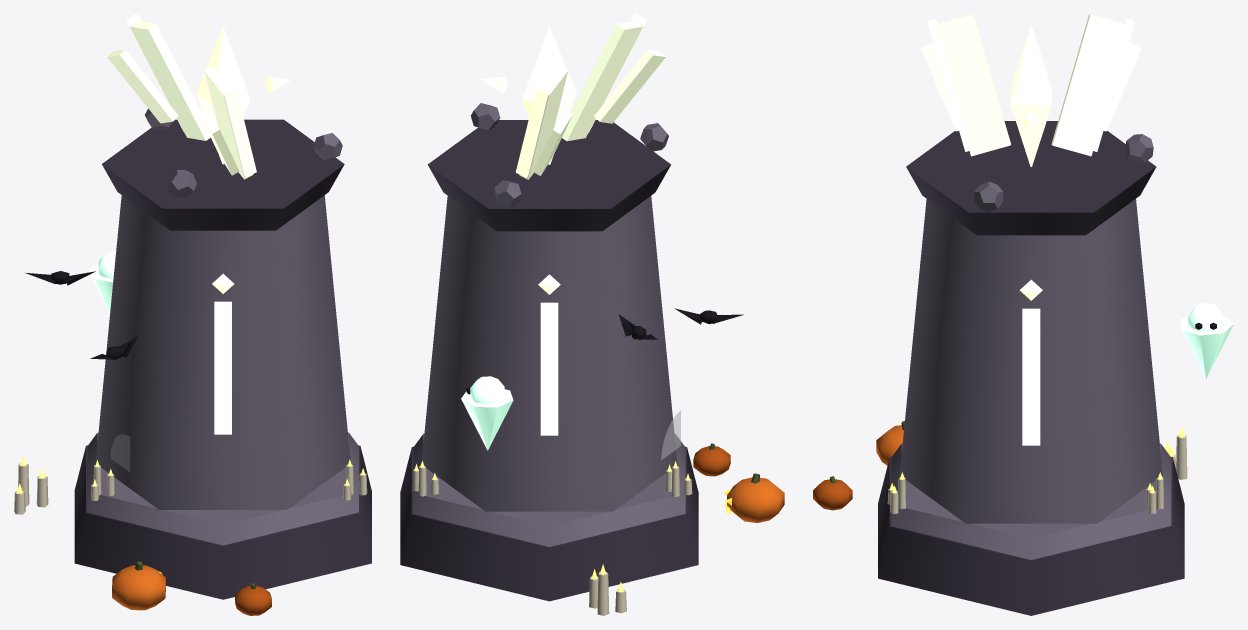
File: tower_element_elementWind.glb
3 views of the same model, side by side, from view 1: azimuth 30°, elevation 25°; view 2: azimuth 150°, elevation 25°; view 3: azimuth 270°, elevation 25° (orthographic). The views are drawn at different scales.
Visible parts, largest first — view 1: pillar, pillar_cap, base, base_top, wing_r_vane, rune_2, deco_hw_jack_body, crystal, wing_r_vane_b, aura, wing_l_vane, wing_l_edge (+7 smaller); view 2: pillar, pillar_cap, base, base_top, wing_l_vane, rune_1, deco_hw_jack_body, crystal, aura, wing_l_vane_b, deco_hw_ghost_sheet, wing_r_vane (+8 smaller); view 3: pillar, base, pillar_cap, base_top, wing_r_vane, wing_l_vane, crystal, rune_0, deco_hw_ghost_sheet, aura, wing_l_edge, wing_r_edge (+6 smaller).
Part boxes in pixels (x1,y1,x2,y2): pillar: [95, 195, 350, 509]; pillar_cap: [102, 119, 344, 230]; base: [74, 445, 371, 599]; base_top: [87, 432, 358, 545]; wing_r_vane: [129, 21, 210, 140]; rune_2: [214, 301, 231, 434]; deco_hw_jack_body: [112, 565, 165, 610]; crystal: [196, 26, 250, 164]; wing_r_vane_b: [107, 49, 178, 123]; aura: [145, 108, 342, 197]; wing_l_vane: [204, 66, 253, 179]; wing_l_edge: [222, 83, 256, 177]; pillar: [421, 196, 677, 511]; pillar_cap: [427, 120, 671, 231]; base: [400, 446, 698, 601]; base_top: [413, 433, 685, 546]; wing_l_vane: [562, 21, 643, 141]; rune_1: [540, 302, 558, 435]; deco_hw_jack_body: [727, 477, 784, 522]; crystal: [522, 26, 576, 164]; aura: [471, 103, 668, 207]; wing_l_vane_b: [594, 49, 665, 123]; deco_hw_ghost_sheet: [461, 389, 513, 450]; wing_r_vane: [519, 66, 567, 179]; pillar: [899, 199, 1162, 523]; base: [878, 456, 1184, 615]; pillar_cap: [906, 121, 1156, 235]; base_top: [891, 443, 1171, 559]; wing_r_vane: [1051, 14, 1125, 156]; wing_l_vane: [936, 14, 1010, 156]; crystal: [1010, 25, 1051, 166]; rune_0: [1022, 308, 1040, 445]; deco_hw_ghost_sheet: [1181, 315, 1233, 379]; aura: [974, 134, 1153, 211]; wing_l_edge: [927, 18, 972, 151]; wing_r_edge: [1090, 18, 1134, 151].
Size of the model in its own units: 0.4175 by 0.628 by 0.4636.
